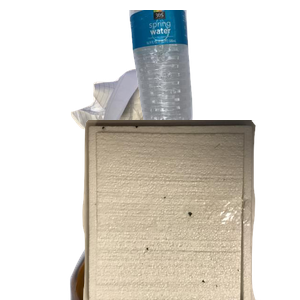glass: (67, 120, 282, 300)
paper: (68, 66, 215, 197)
plastic: (127, 10, 300, 134)
trash: (80, 120, 300, 300)
